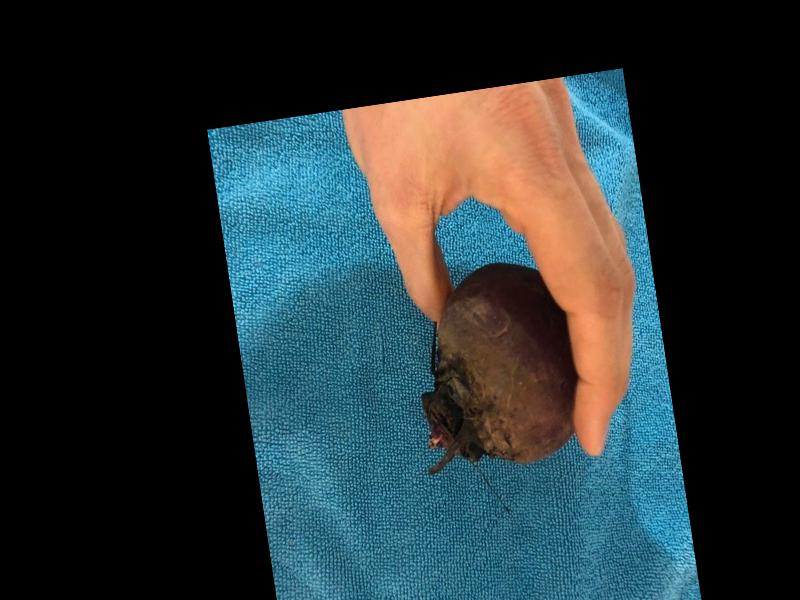Beet: (400, 255, 587, 476)
